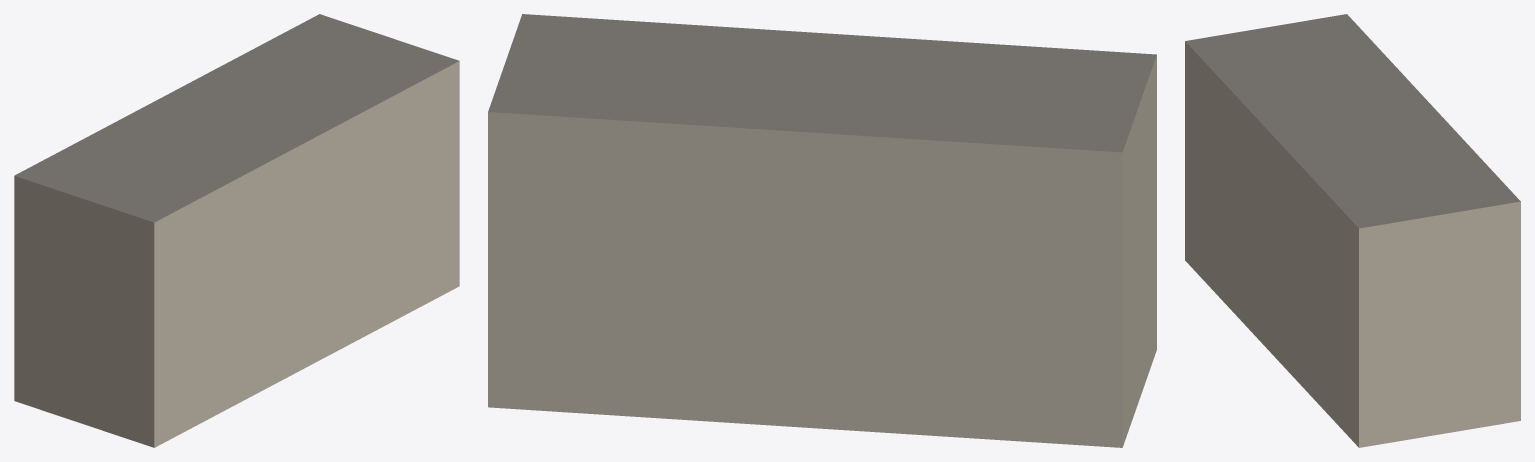
The picture shows the model from 3 angles, left to right: view 1: azimuth 30°, elevation 25°; view 2: azimuth 150°, elevation 25°; view 3: azimuth 270°, elevation 25°; orthographic projection. The views are drawn at different scales.
Visible parts, largest first — view 1: HP-w1287260021; view 2: HP-w1287260021; view 3: HP-w1287260021.
Boxes of the visible parts, bbox=[...] form: HP-w1287260021: bbox=[14, 14, 459, 447]; HP-w1287260021: bbox=[488, 14, 1156, 447]; HP-w1287260021: bbox=[1185, 14, 1520, 447].
Bounding box in the file's own units: 37.76 × 18 × 24.97.
